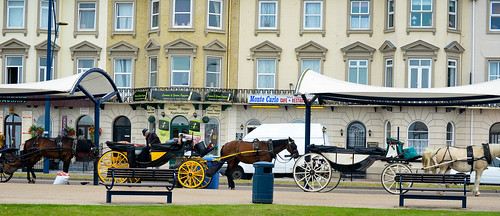animal: (13, 134, 102, 185), (223, 139, 297, 176)
bench: (390, 172, 477, 212), (103, 163, 182, 204)
building: (12, 2, 497, 81)
carriage: (295, 137, 411, 194), (98, 139, 215, 187)
trash can: (248, 158, 276, 208)
